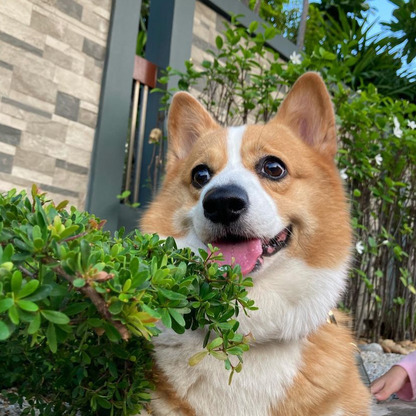Corgi: (136, 76, 380, 393)
